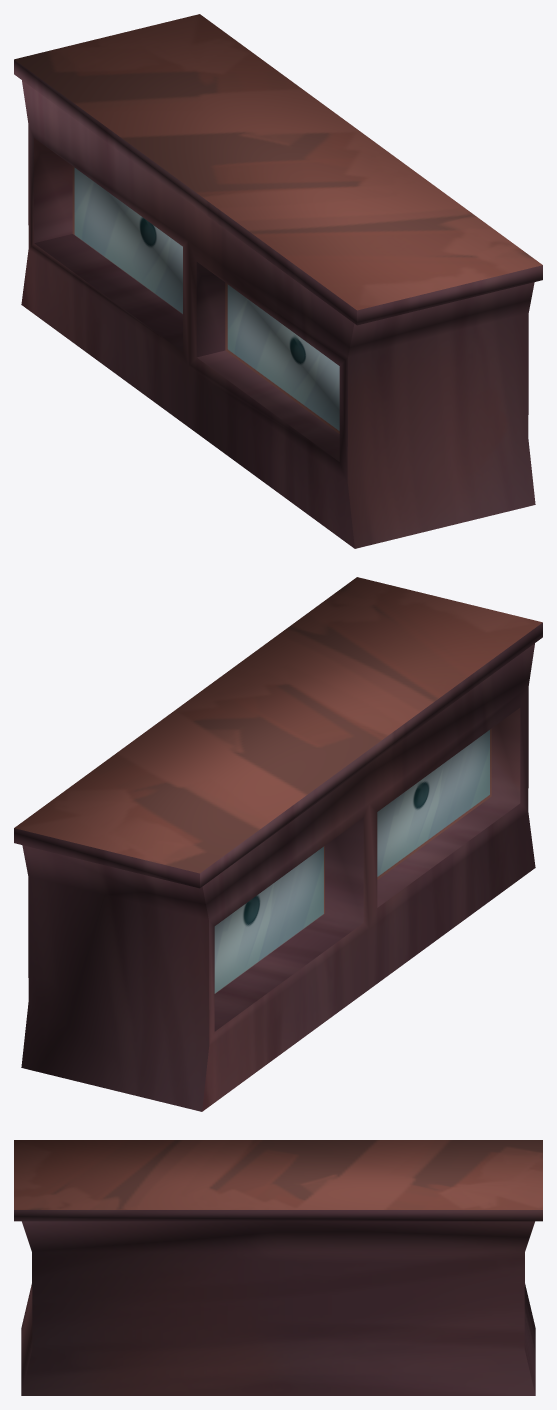
Rendered from EstantePequena.fbx.
The picture shows the model from 3 angles, top to bottom: view 1: azimuth 30°, elevation 25°; view 2: azimuth 150°, elevation 25°; view 3: azimuth 270°, elevation 25°; orthographic projection. The views are drawn at different scales.
Parts seen in each view (by area): view 1: EstantePequena; view 2: EstantePequena; view 3: EstantePequena.
Part boxes in pixels (x1=…): EstantePequena: x1=14, y1=14, x2=542, y2=548; EstantePequena: x1=14, y1=577, x2=542, y2=1111; EstantePequena: x1=14, y1=1140, x2=542, y2=1395.
Bounding box in the file's own units: 77.85 × 249 × 97.09.
